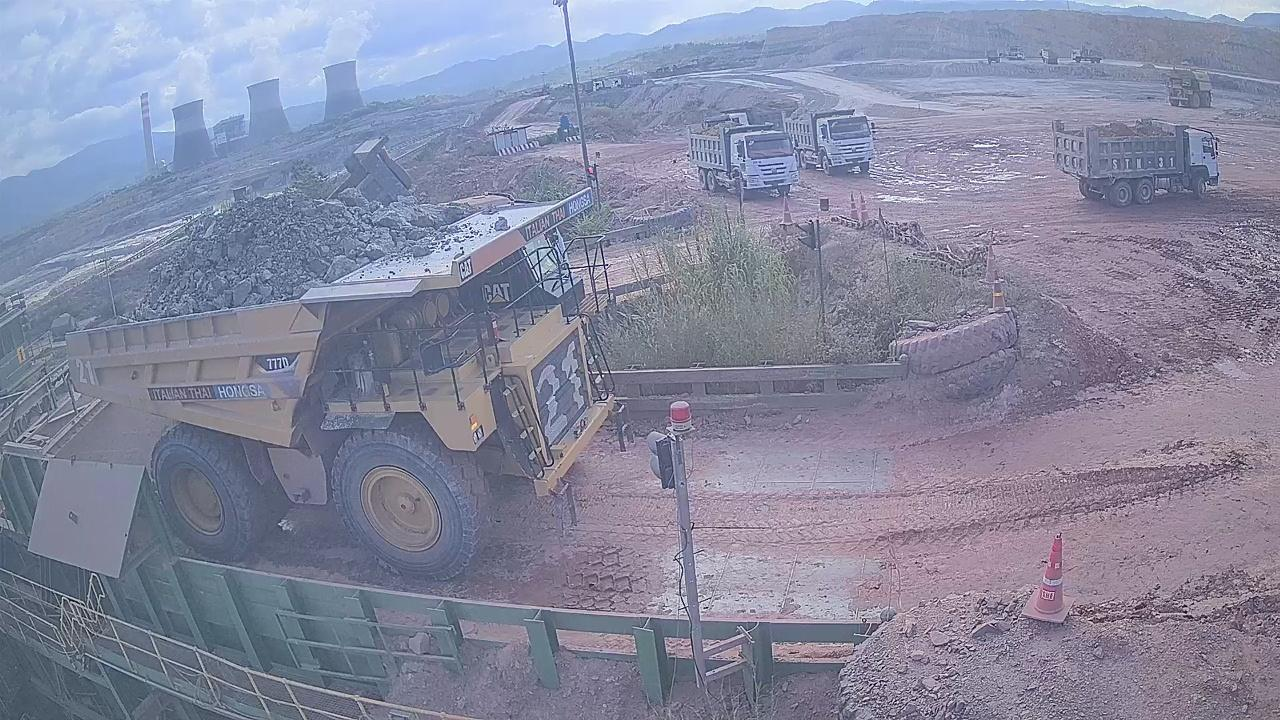company: (142, 383, 286, 404)
front_number: (521, 324, 596, 458)
full_load: (120, 191, 434, 312)
mining_truck: (62, 182, 630, 581)
tail_number: (71, 353, 102, 389)
truck_size: (247, 347, 300, 373)
